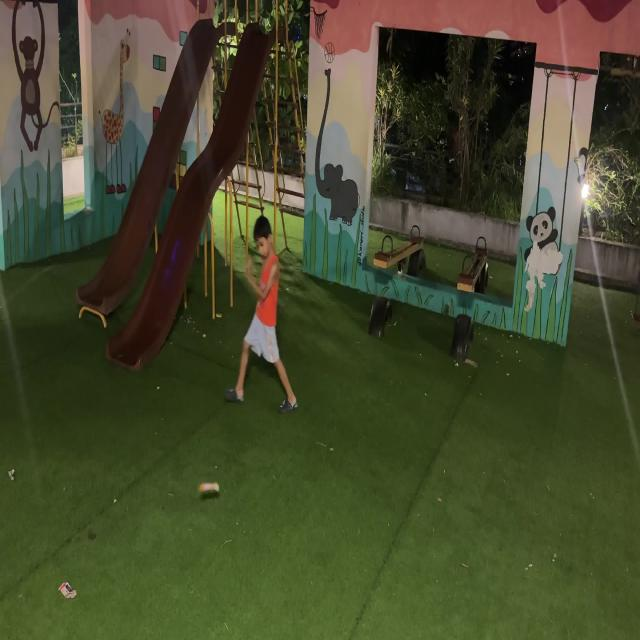garbage_dumping: (192, 470, 224, 498)
